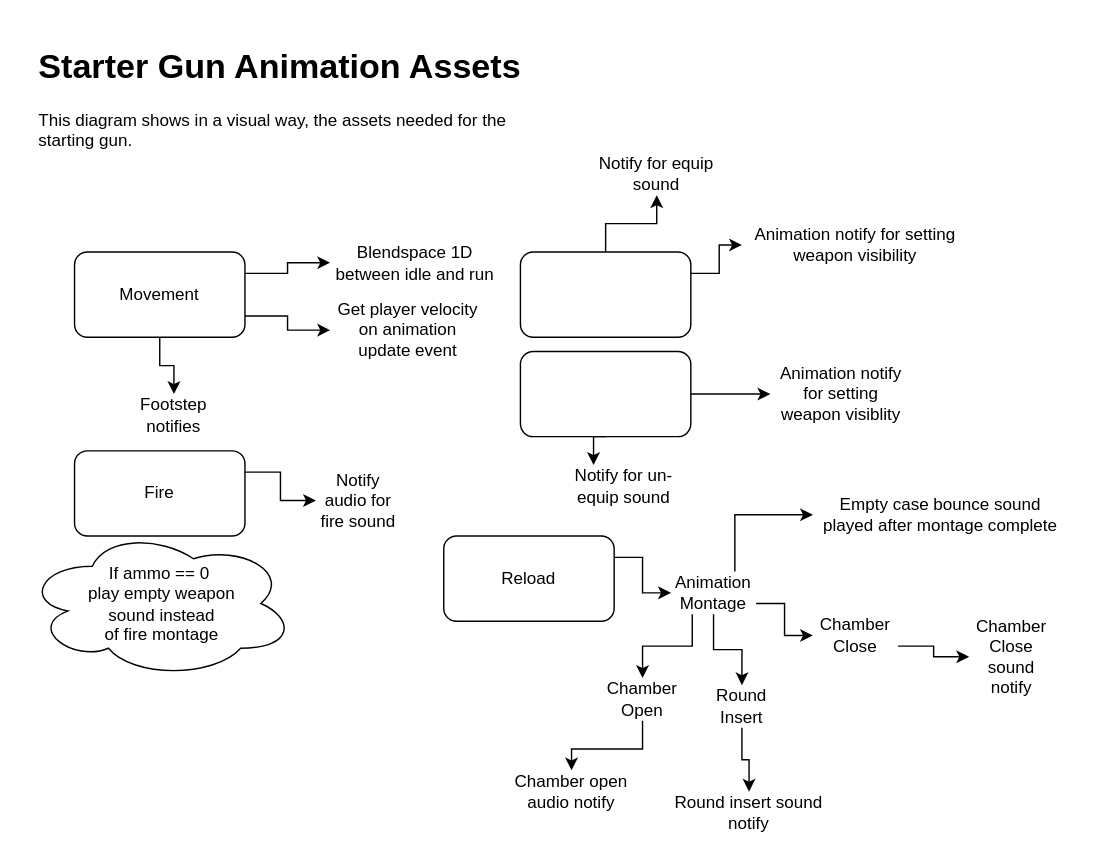
Some shapes in this 1093 by 858 pixel diagram are drawn without their labels. The shapes that lost their labels are listed below. From the top down, each one's centre as x and y in pixels, then its label:
At point (605, 294): "Raise".
At point (605, 393): "Lower".
